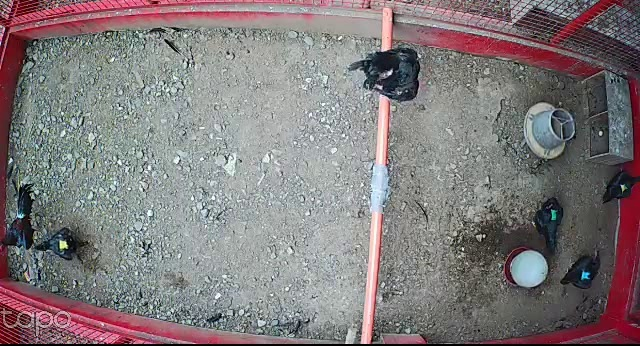Chicken: (342, 43, 421, 104), (528, 195, 567, 261), (556, 245, 605, 291), (597, 166, 640, 213), (34, 228, 90, 262)
Drinker: (503, 246, 551, 291)
Feeder: (524, 101, 574, 161)
Rooster: (0, 181, 38, 258)
Saddle_Color_Blue: (580, 270, 593, 281)
Saddle_Color_Yellow: (56, 240, 70, 249)
Saddle_Color_YellowGreen: (619, 183, 629, 192)
